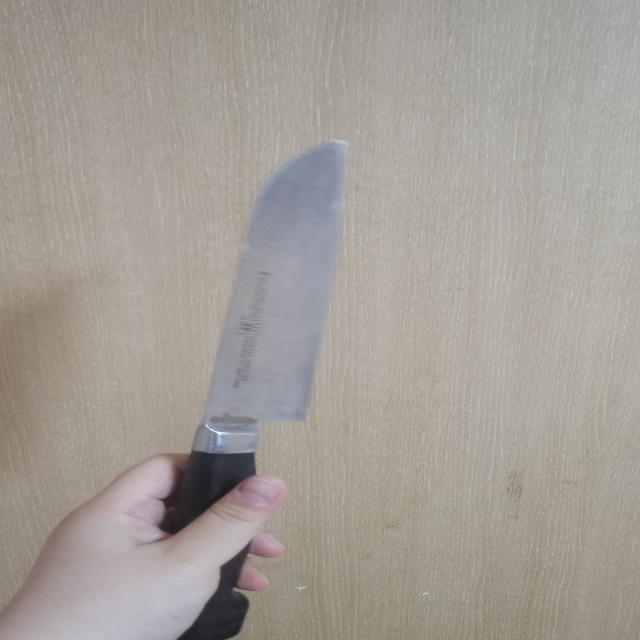knife: (162, 139, 340, 638)
